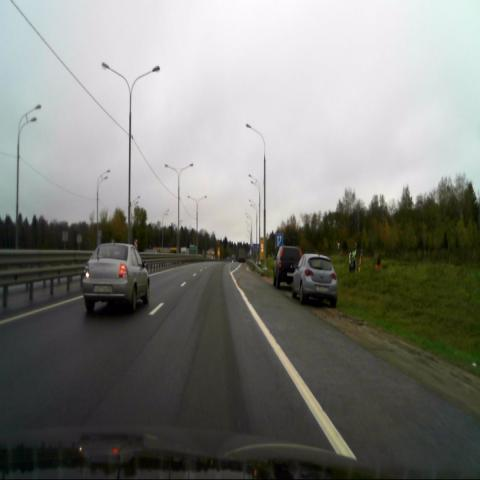5_15_3: (276, 234, 283, 247)
